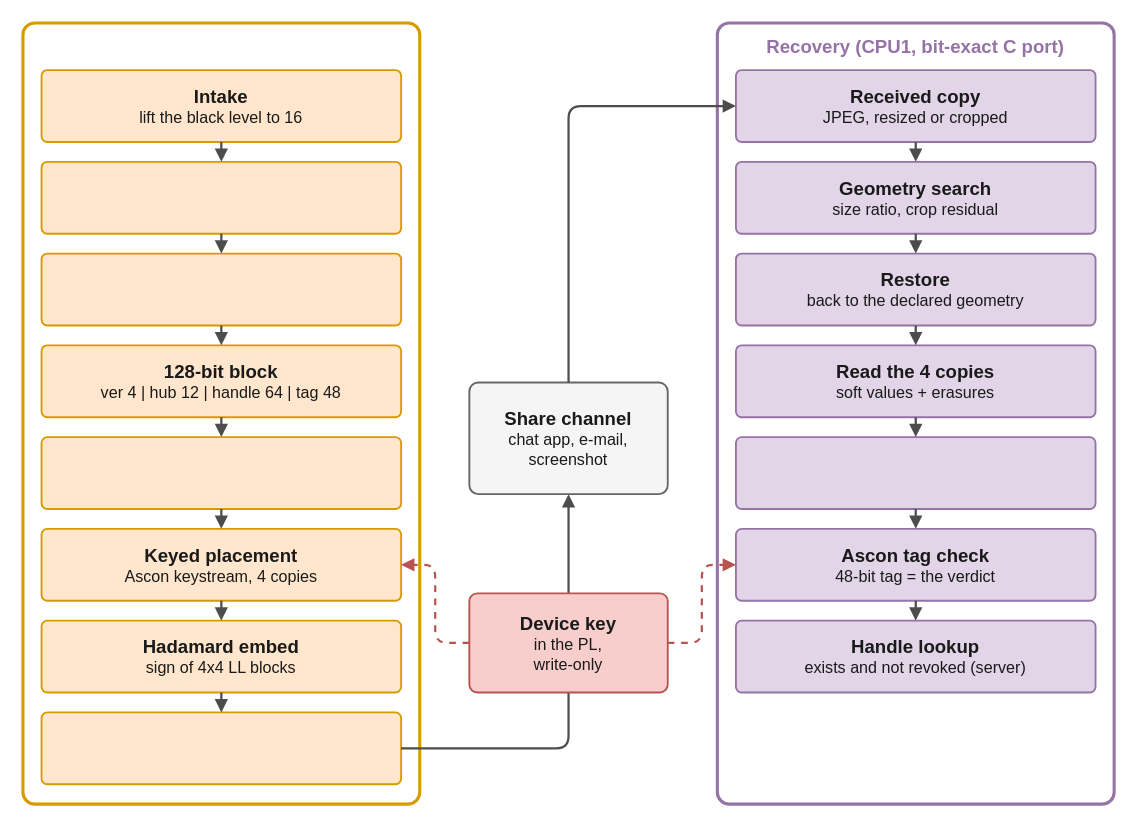
Image size: 1137x827. Some labels were removed from this diagram. Here are the shapes that lost their labels. From the top down, the box of each, then its label:
(40, 160, 402, 234): 5/3 integer wavelet 1 level, keep the LL band
(40, 252, 402, 326): ROI + clipping taint the diagnostic area is never touched
(21, 21, 421, 805): Marking (CPU0, img_work)
(40, 436, 402, 509): Polar encode N = 256, K = 128
(734, 436, 1096, 509): SCL polar decode list size 8
(40, 711, 402, 785): Inverse wavelet marked PNG to Storage
